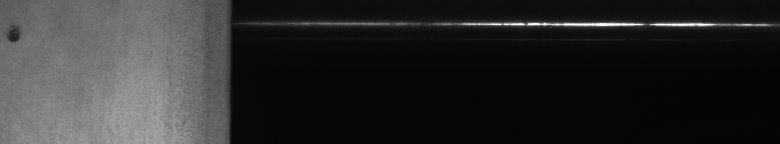fi: (4, 20, 27, 48)
